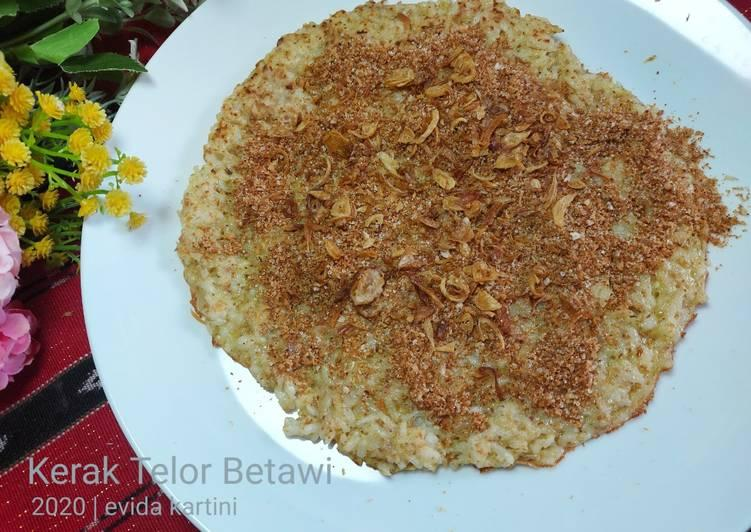kerak_telor: (175, 1, 708, 473)
